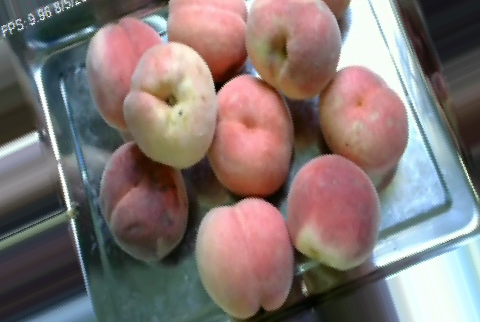Peach: (123, 42, 217, 165), (198, 197, 293, 318), (99, 140, 193, 259), (208, 76, 296, 199), (286, 154, 376, 270), (87, 19, 173, 131), (244, 0, 341, 97), (320, 64, 406, 171), (165, 0, 250, 77)
